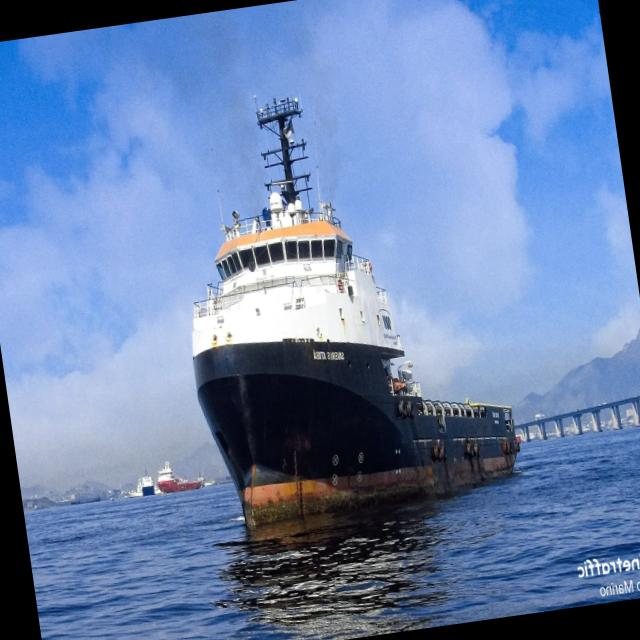Offshore: (192, 99, 520, 528), (156, 463, 203, 492)
